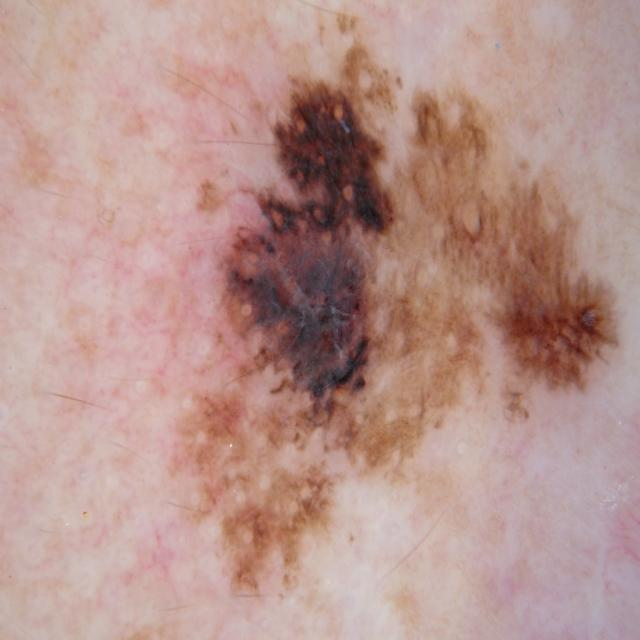Skin-Cancer Melanoma: (10, 7, 640, 629)
